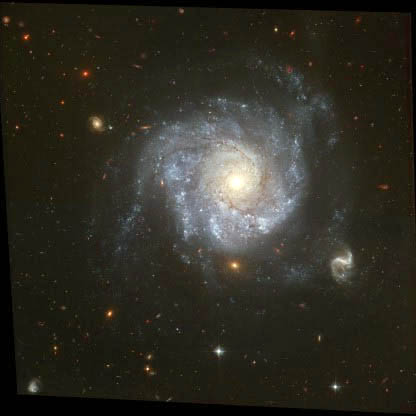NGC 1309: (87, 55, 368, 297)
